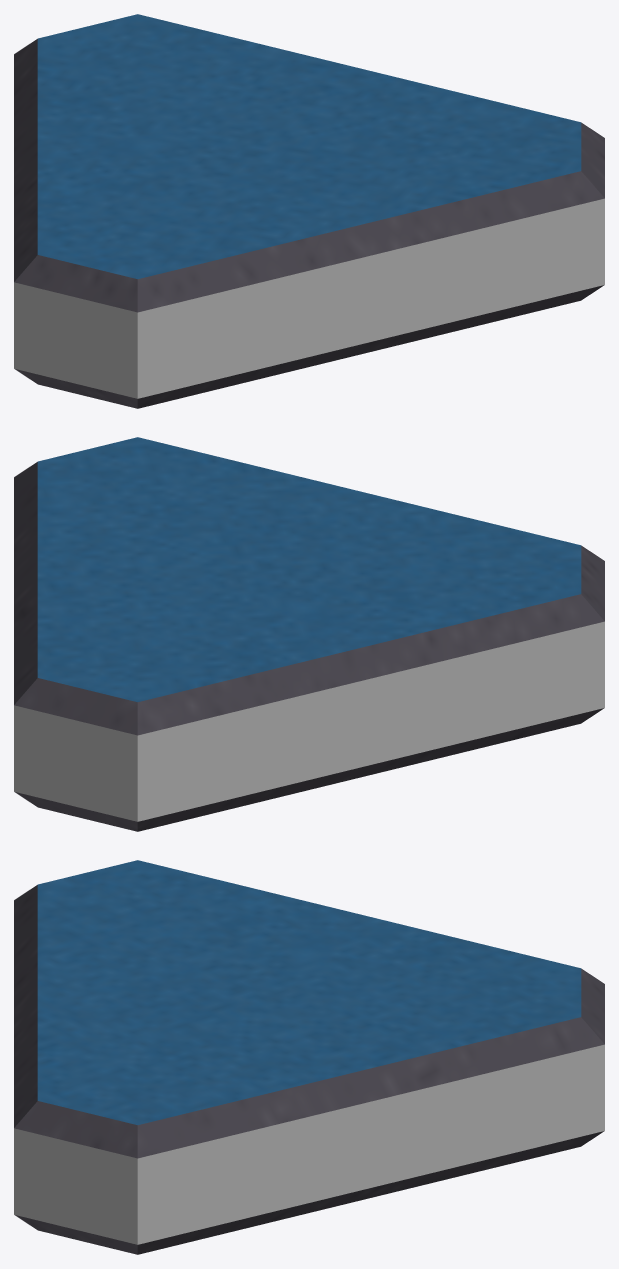
File: RobotVacuumCleaner.fbx
3 views of the same model, one above another, from view 1: azimuth 30°, elevation 25°; view 2: azimuth 150°, elevation 25°; view 3: azimuth 270°, elevation 25° (orthographic).
Parts seen in each view (by area): view 1: RobotVacuumCleaner; view 2: RobotVacuumCleaner; view 3: RobotVacuumCleaner.
Part boxes in pixels (left/top/right/bottom): RobotVacuumCleaner: left=14, top=14, right=604, bottom=408; RobotVacuumCleaner: left=14, top=437, right=604, bottom=831; RobotVacuumCleaner: left=14, top=860, right=604, bottom=1254.
Bounding box in the file's own units: 1 × 0.8681 × 0.245.
